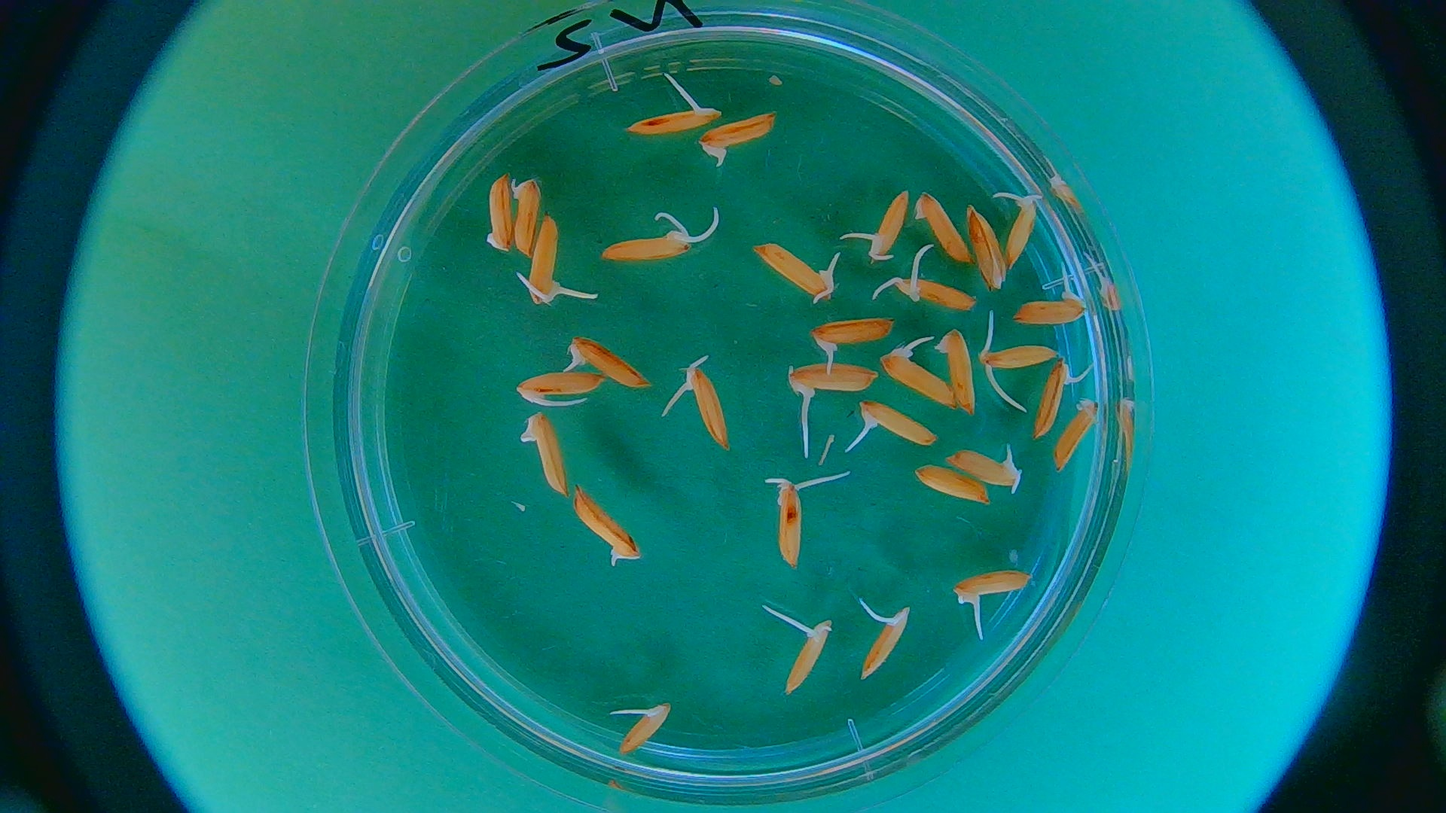no: (914, 193, 972, 265), (522, 410, 568, 495), (936, 328, 979, 417), (962, 205, 1004, 292), (912, 460, 991, 504), (1054, 395, 1098, 472), (480, 172, 517, 249), (507, 179, 541, 257)
yes: (569, 483, 641, 563), (749, 240, 840, 301), (566, 333, 652, 391), (888, 349, 961, 408), (864, 397, 941, 448), (523, 215, 566, 303), (786, 617, 834, 695), (682, 367, 728, 446), (858, 606, 908, 678), (597, 227, 691, 265), (867, 184, 912, 262), (515, 367, 602, 407), (699, 111, 777, 153), (1031, 359, 1071, 440), (791, 367, 883, 402), (956, 565, 1031, 607), (614, 699, 673, 752), (976, 340, 1060, 377), (772, 480, 808, 566), (630, 104, 724, 136), (898, 272, 979, 309), (810, 316, 892, 352), (945, 451, 1020, 486), (1014, 293, 1087, 328), (1003, 195, 1039, 265)
